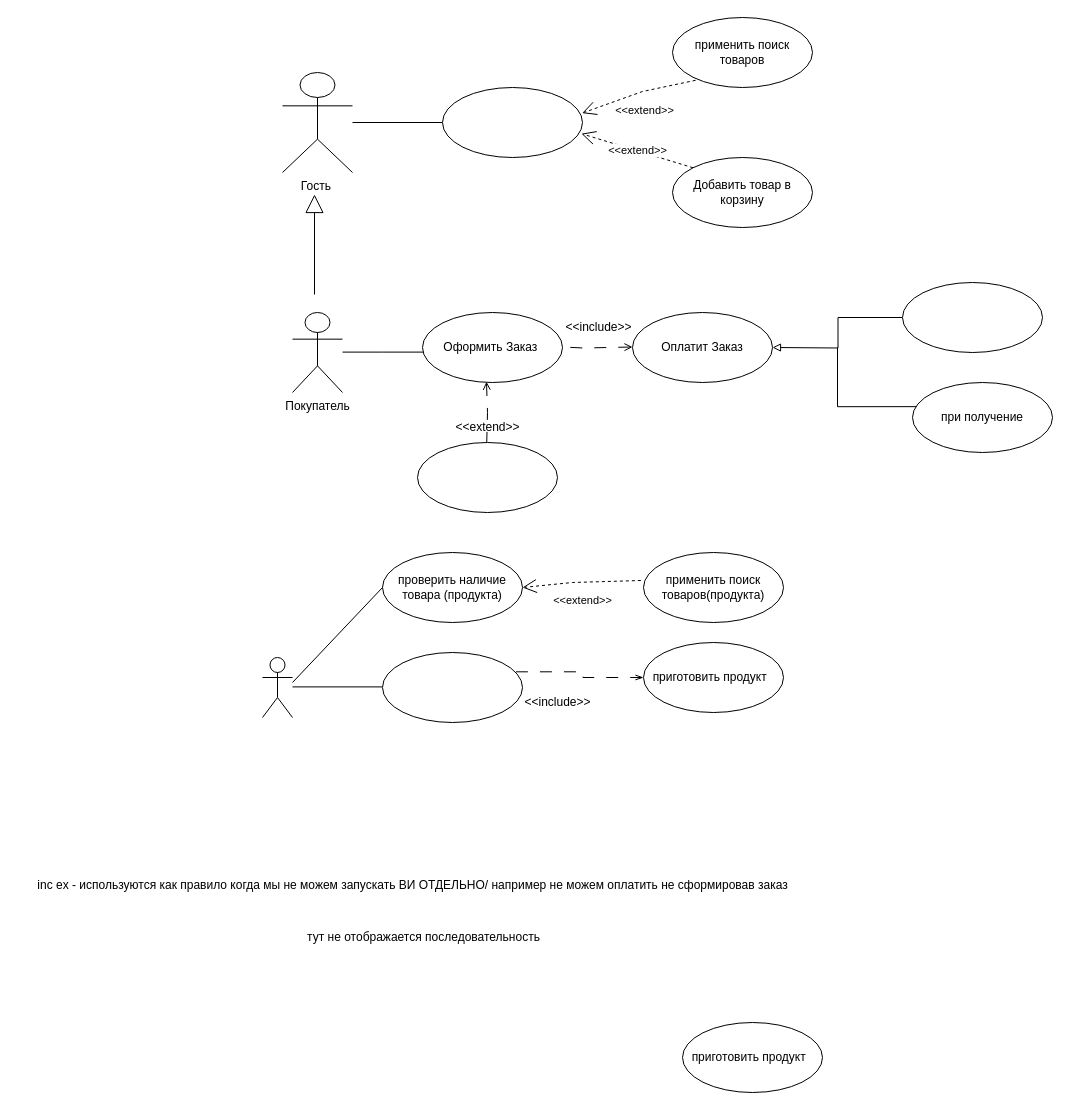
Some shapes in this 1070 by 1110 pixel diagram are drawn without their labels. The shapes that lost their labels are listed below. From the top down, each one's centre as x and y in pixels, then its label:
point (512, 122): искать товар
point (972, 317): онлайн
point (487, 477): Выбрать способ получение
point (277, 687): Бариста
point (452, 687): приготовить товар для продажи
